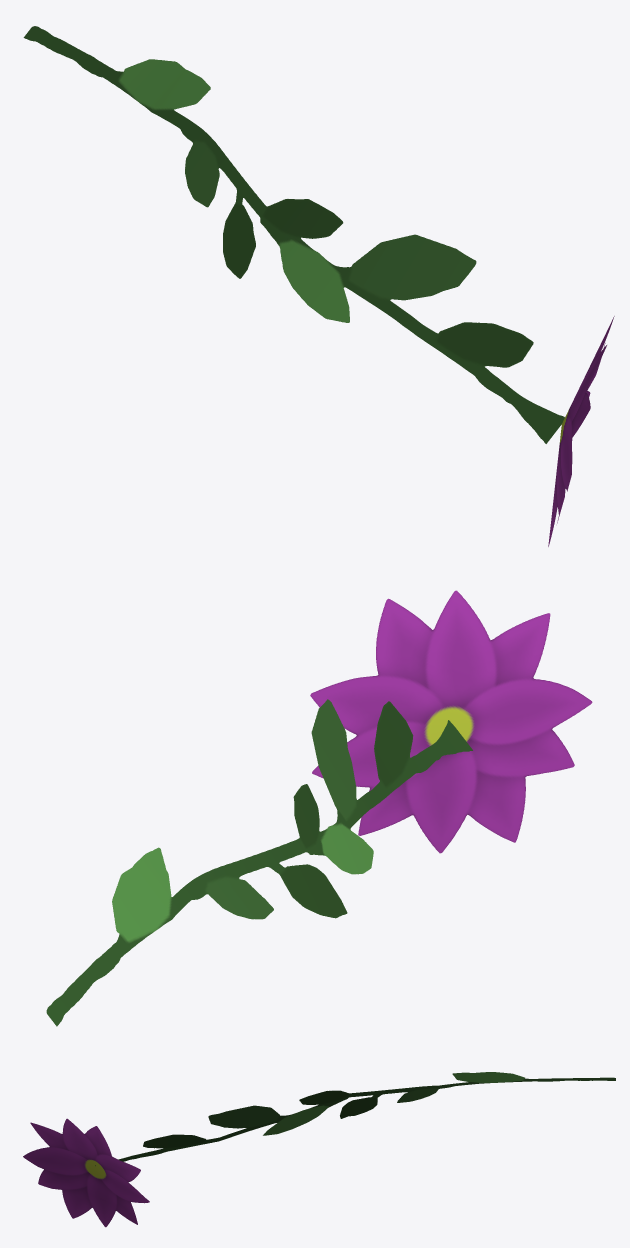
Rendered from Bloemen-los-middel-roze.dae.
The picture shows the model from 3 angles, top to bottom: view 1: azimuth 30°, elevation 25°; view 2: azimuth 150°, elevation 25°; view 3: azimuth 270°, elevation 25°; orthographic projection. The views are drawn at different scales.
Parts seen in each view (by area): view 1: Bloemen_Mid_Single_geo; view 2: Bloemen_Mid_Single_geo; view 3: Bloemen_Mid_Single_geo.
Part boxes in pixels (box(x1,y1,x2,y2)): Bloemen_Mid_Single_geo: box(23, 26, 614, 546); Bloemen_Mid_Single_geo: box(46, 590, 592, 1026); Bloemen_Mid_Single_geo: box(23, 1072, 615, 1227).
Bounding box in the file's own units: 7.44 × 8.43 × 31.75.
1 material, 1 textured.
